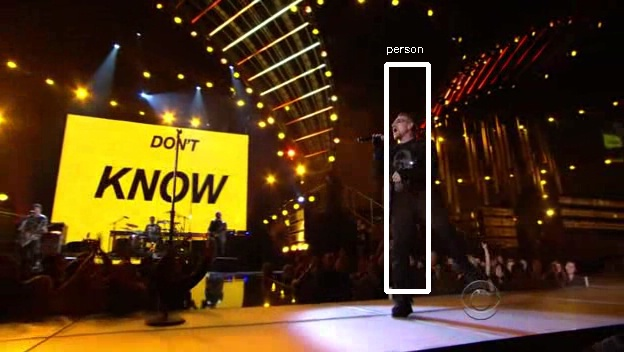person: (374, 111, 441, 222), (371, 111, 438, 222), (377, 111, 444, 222), (374, 108, 441, 219), (374, 114, 441, 225)
target_negative: (240, 31, 478, 242), (305, 183, 531, 274), (197, 100, 284, 332), (35, 131, 136, 249), (554, 41, 607, 56), (574, 309, 596, 331)
